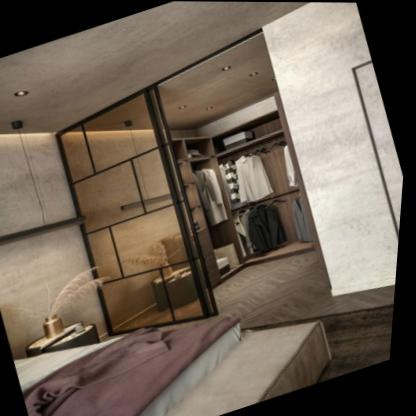Transparent Closet: (61, 90, 334, 336)
